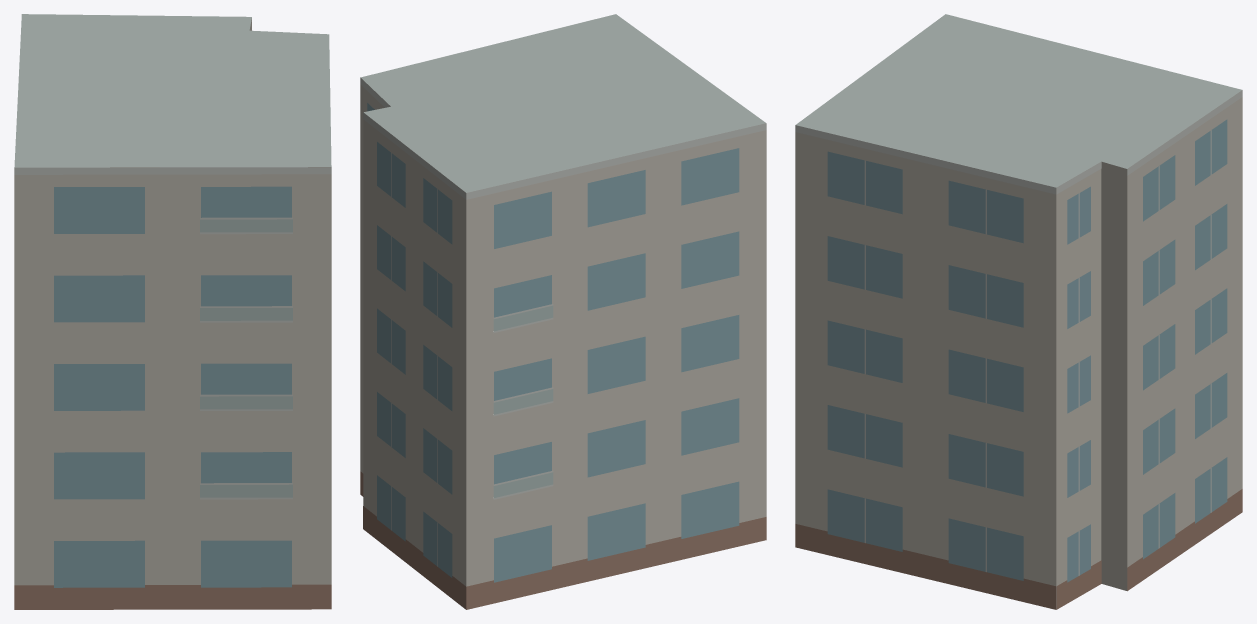
File: survey-upis-32687121.glb
3 renders of one model, left to right at view 1: azimuth 30°, elevation 25°; view 2: azimuth 150°, elevation 25°; view 3: azimuth 270°, elevation 25°, orthographic. The views are drawn at different scales.
Visible parts, largest first — view 1: survey-upis-32687121.tmp; view 2: survey-upis-32687121.tmp; view 3: survey-upis-32687121.tmp.
Part boxes in pixels (x1,y1,x2,y2): survey-upis-32687121.tmp: (14, 14, 331, 609); survey-upis-32687121.tmp: (360, 14, 766, 609); survey-upis-32687121.tmp: (795, 14, 1242, 609).
Bounding box in the file's own units: 13.06 × 14.8 × 14.22.
